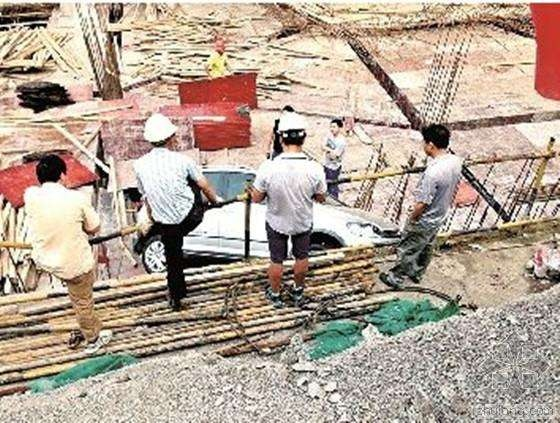none: (29, 153, 69, 190), (416, 123, 452, 158), (329, 118, 344, 135)
white: (138, 112, 180, 153), (275, 110, 310, 151)
